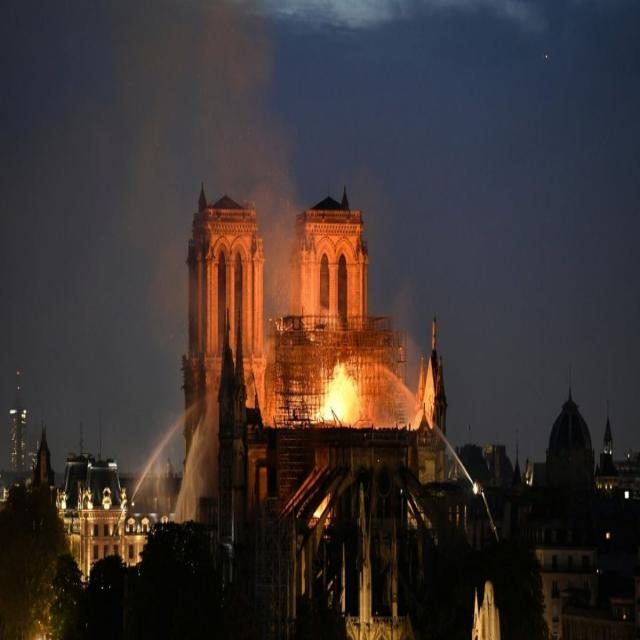Fire: (315, 362, 362, 428)
Smoke: (98, 2, 300, 335)
